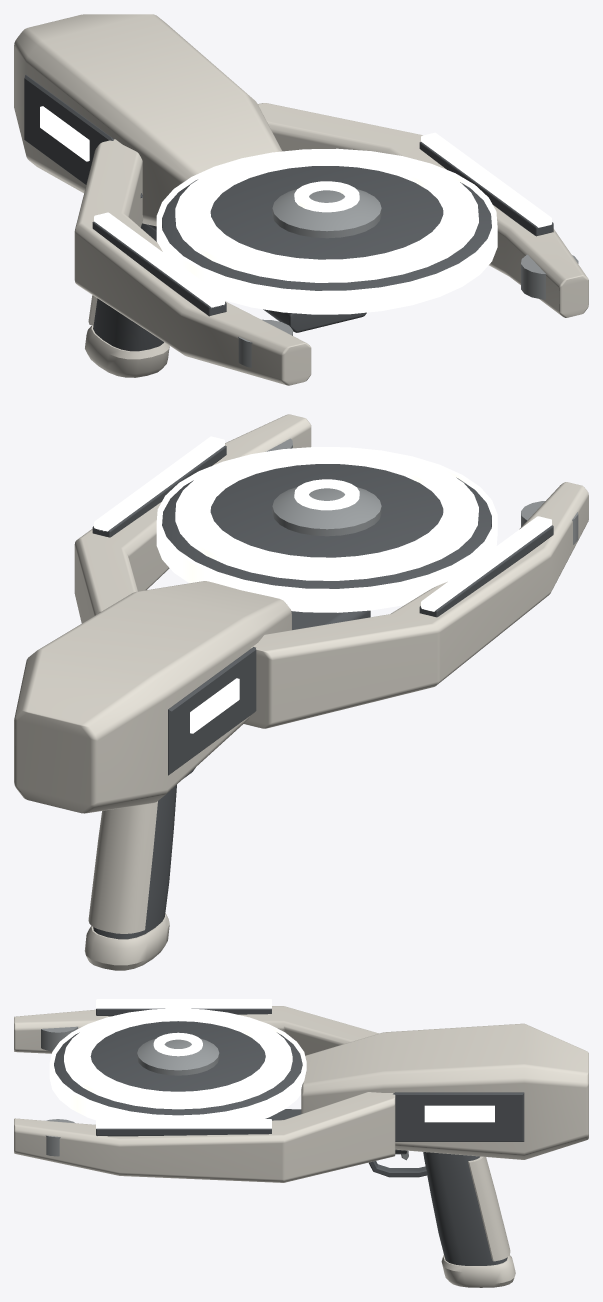
The model's file is ReboundDisc.fbx.
3 renders of one model, top to bottom at view 1: azimuth 30°, elevation 25°; view 2: azimuth 150°, elevation 25°; view 3: azimuth 270°, elevation 25°, orthographic. The views are drawn at different scales.
Parts seen in each view (by area): view 1: RearShell, Fork, DiscCore, DiscSignal, Fork.001, DiscRimLight, DiscHousingPlate, DiscHub, ForkEnergyEdge, ForkEnergyEdge.001, GripHeel, PalmGrip (+7 smaller); view 2: RearShell, Fork, DiscCore, DiscSignal, Fork.001, DiscRimLight, GripPanel, DiscHousingPlate, DiscHub, PalmGrip, GripHeel, ForkEnergyEdge (+6 smaller); view 3: RearShell, Fork.001, DiscCore, DiscSignal, DiscHousingPlate.001, PalmGrip, Fork, DiscRimLight, DiscHub, GripPanel, ForkEnergyEdge, ForkEnergyEdge.001 (+7 smaller).
Part boxes in pixels (x1=…): RearShell: x1=14, y1=14, x2=281, y2=226; Fork: x1=74, y1=139, x2=311, y2=385; DiscCore: x1=162, y1=166, x2=491, y2=290; DiscSignal: x1=175, y1=149, x2=478, y2=282; Fork.001: x1=258, y1=103, x2=588, y2=317; DiscRimLight: x1=156, y1=148, x2=497, y2=314; DiscHousingPlate: x1=24, y1=74, x2=142, y2=197; DiscHub: x1=272, y1=188, x2=381, y2=238; ForkEnergyEdge: x1=94, y1=212, x2=224, y2=307; ForkEnergyEdge.001: x1=421, y1=132, x2=551, y2=227; GripHeel: x1=85, y1=325, x2=169, y2=377; PalmGrip: x1=93, y1=223, x2=163, y2=351; RearShell: x1=14, y1=581, x2=291, y2=813; Fork: x1=244, y1=482, x2=588, y2=728; DiscCore: x1=162, y1=464, x2=491, y2=588; DiscSignal: x1=175, y1=447, x2=478, y2=580; Fork.001: x1=74, y1=414, x2=311, y2=623; DiscRimLight: x1=156, y1=447, x2=497, y2=612; GripPanel: x1=88, y1=801, x2=157, y2=933; DiscHousingPlate: x1=168, y1=647, x2=256, y2=775; DiscHub: x1=272, y1=487, x2=381, y2=536; PalmGrip: x1=93, y1=785, x2=176, y2=939; GripHeel: x1=84, y1=913, x2=169, y2=970; ForkEnergyEdge: x1=421, y1=516, x2=551, y2=611; RearShell: x1=301, y1=1023, x2=588, y2=1159; Fork.001: x1=14, y1=1092, x2=395, y2=1182; DiscCore: x1=54, y1=1021, x2=302, y2=1115; DiscSignal: x1=64, y1=1008, x2=292, y2=1109; DiscHousingPlate.001: x1=393, y1=1092, x2=524, y2=1141; PalmGrip: x1=423, y1=1152, x2=507, y2=1265; Fork: x1=14, y1=1006, x2=378, y2=1055; DiscRimLight: x1=49, y1=1008, x2=306, y2=1120; DiscHub: x1=137, y1=1038, x2=219, y2=1075; GripPanel: x1=468, y1=1156, x2=510, y2=1261; ForkEnergyEdge: x1=96, y1=999, x2=271, y2=1008; ForkEnergyEdge.001: x1=96, y1=1119, x2=271, y2=1128.
Size of the model in its own units: 0.548 by 0.4415 by 0.98.
